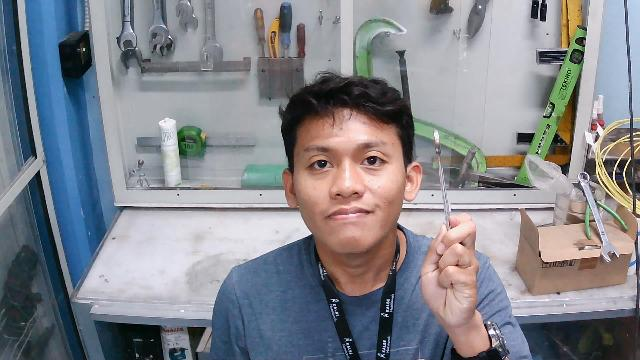kunci_pass_13: (425, 124, 469, 261)
